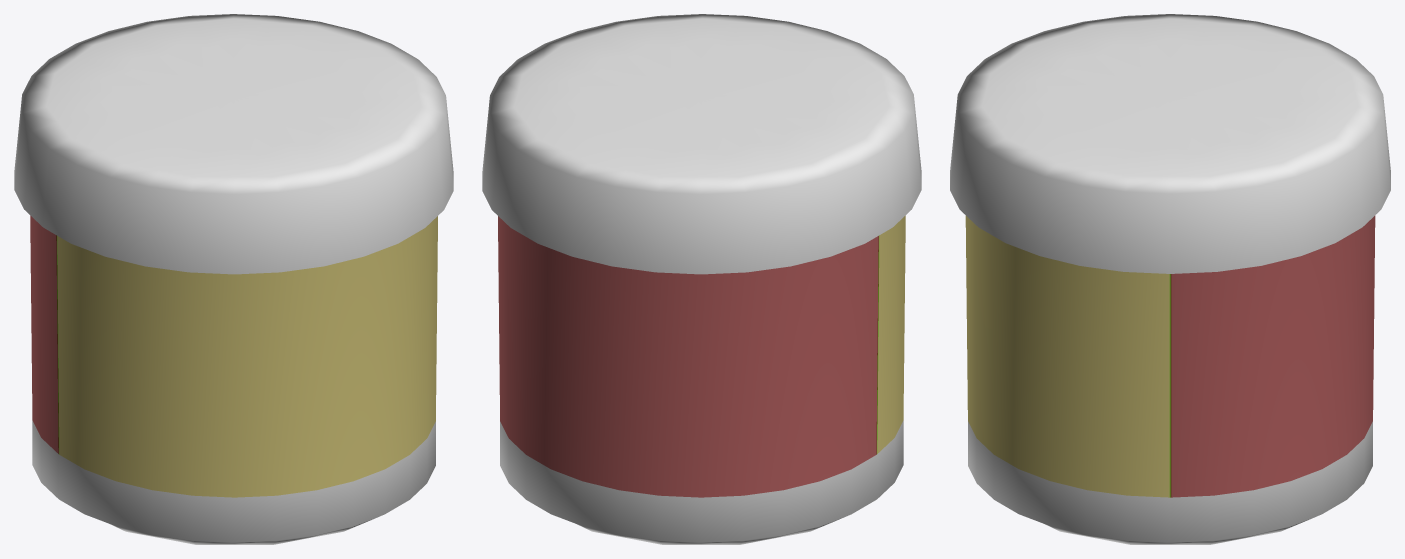
The model's file is BucketsV1.0.fbx.
The picture shows the model from 3 angles, left to right: view 1: azimuth 30°, elevation 25°; view 2: azimuth 150°, elevation 25°; view 3: azimuth 270°, elevation 25°; orthographic projection.
Visible parts, largest first — view 1: Vanilla, Berry, Mint, Choco; view 2: Berry, Vanilla, Mint, Choco; view 3: Berry, Vanilla, Mint, Choco.
Boxes of the visible parts, x1,y1,x2,y2 form: Vanilla: [43, 37, 453, 544]; Berry: [14, 14, 433, 498]; Mint: [43, 36, 435, 499]; Choco: [43, 35, 432, 498]; Berry: [482, 37, 892, 544]; Vanilla: [518, 14, 921, 498]; Mint: [518, 36, 892, 498]; Choco: [517, 36, 892, 499]; Berry: [1038, 14, 1390, 544]; Vanilla: [950, 14, 1302, 544]; Mint: [1036, 14, 1301, 544]; Choco: [1040, 14, 1303, 544].
Bounding box in the file's own units: 21.3 × 20 × 21.29.
